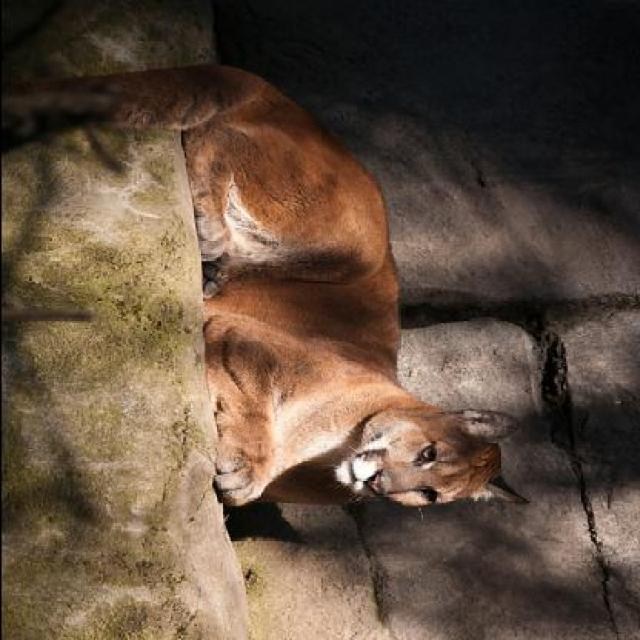Lion: (19, 28, 528, 523)
